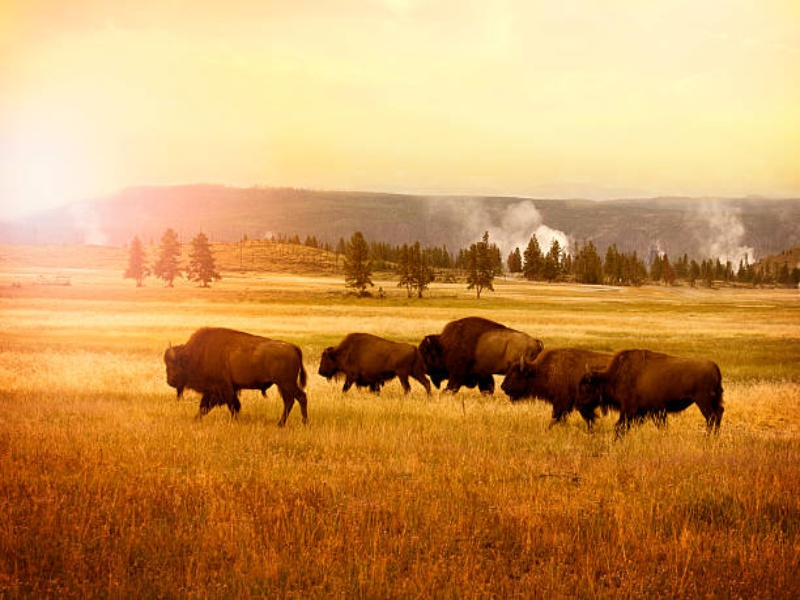buffalo: (152, 304, 738, 440)
